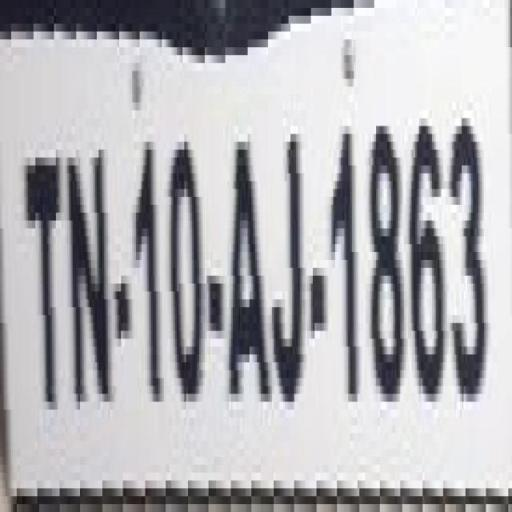number plate: (18, 0, 512, 512)
